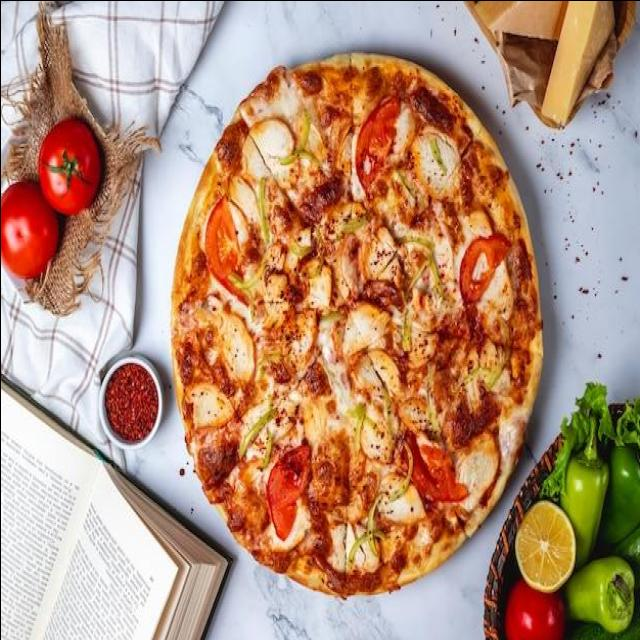pizza: (166, 48, 544, 597)
